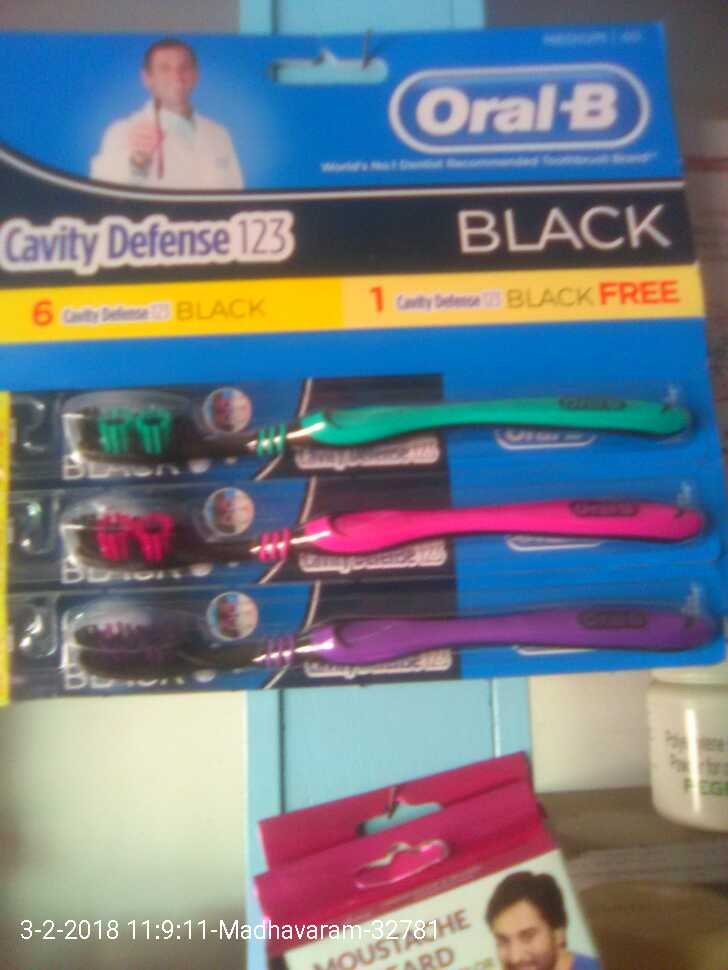oralb: (58, 597, 717, 689), (60, 479, 697, 572), (56, 379, 718, 468)
